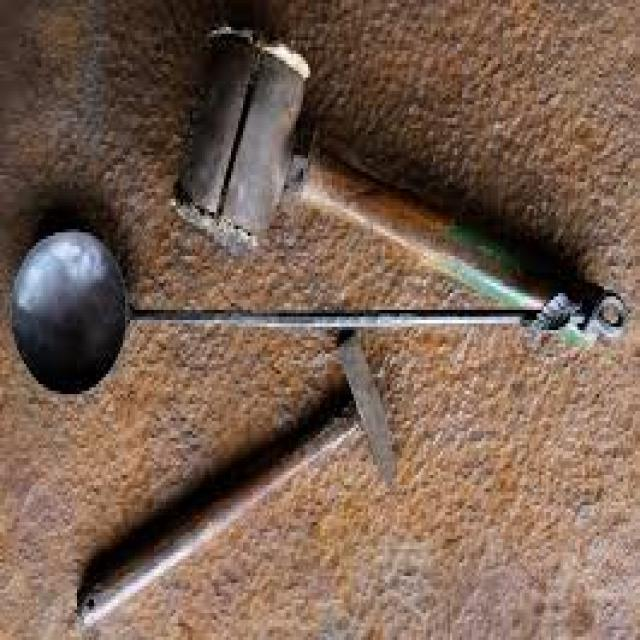hammer: (167, 13, 620, 347), (74, 322, 410, 632)
